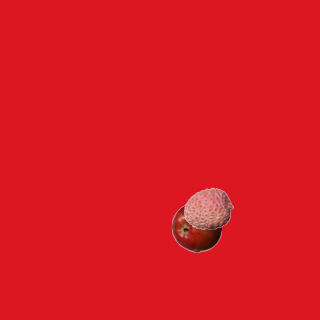Apple Braeburn: (171, 202, 221, 252)
Lychee: (183, 183, 233, 233)
